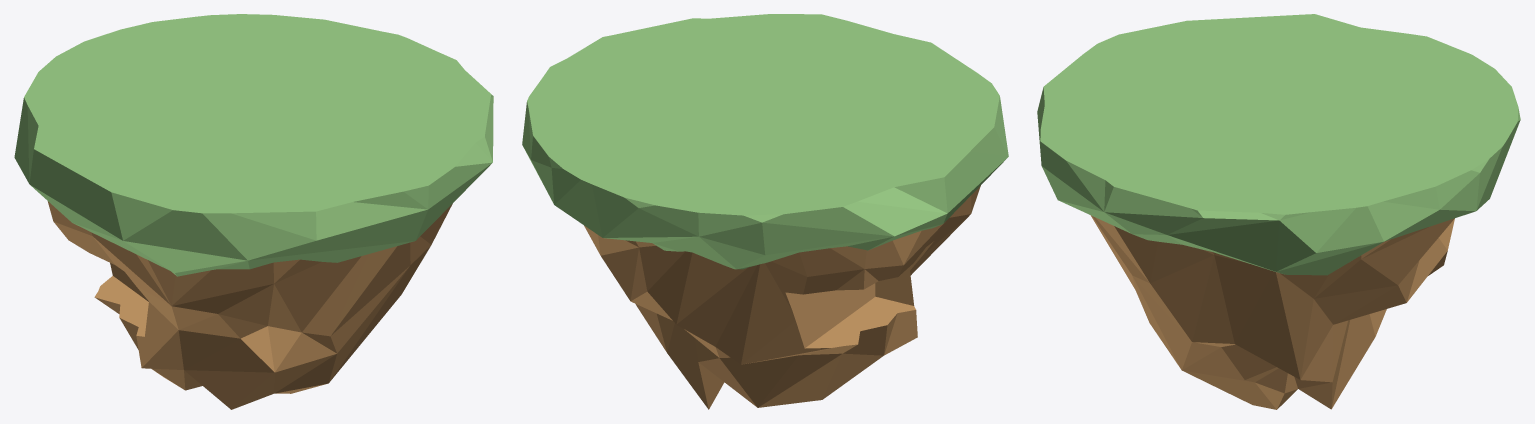
File: island3.fbx
The picture shows the model from 3 angles, left to right: view 1: azimuth 30°, elevation 25°; view 2: azimuth 150°, elevation 25°; view 3: azimuth 270°, elevation 25°; orthographic projection.
Parts seen in each view (by area): view 1: island3; view 2: island3; view 3: island3.
Part boxes in pixels (<box>): island3: <box>14,14,493,409</box>; island3: <box>522,14,1008,409</box>; island3: <box>1037,14,1520,409</box>.
Size of the model in its own units: 6609 by 4300 by 6634.
